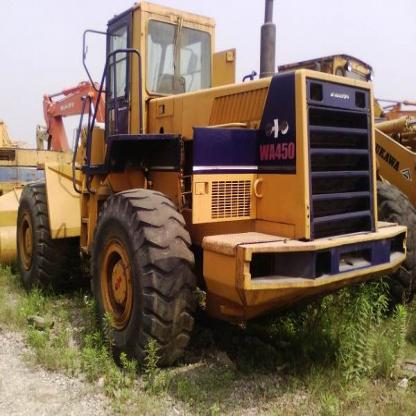bull_dozer/loader/grader: (10, 4, 404, 379)
